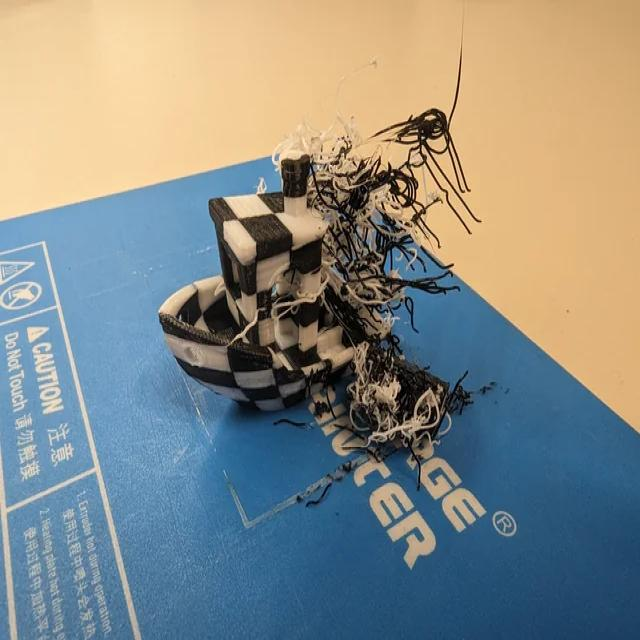spaghetti: (156, 34, 483, 488)
